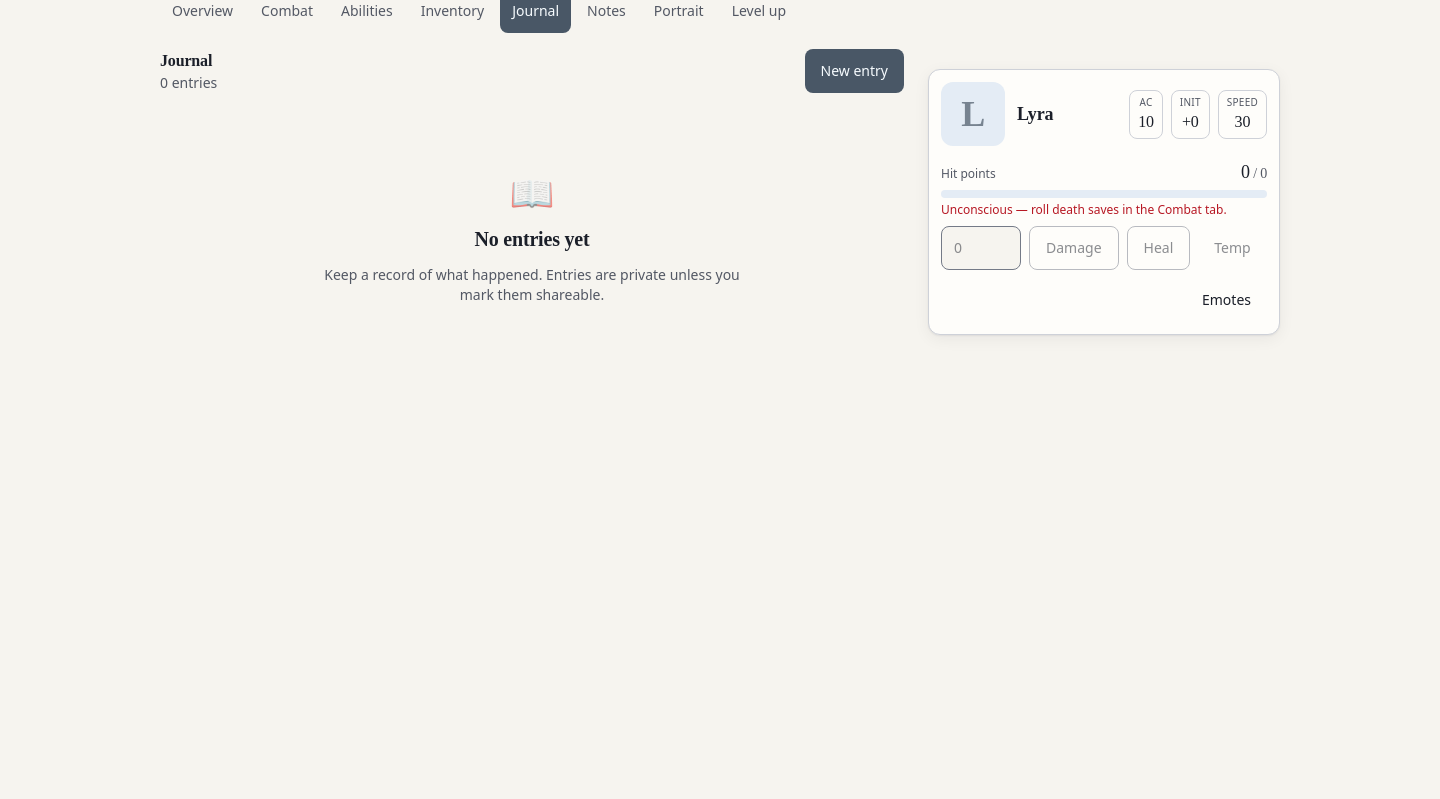
links and backlinks › says so plainly when there is nothing to link yet
The image size is (1440, 799).
Click the button "New entry" at (854, 71), box [805,49,904,93]
(page scrolled)
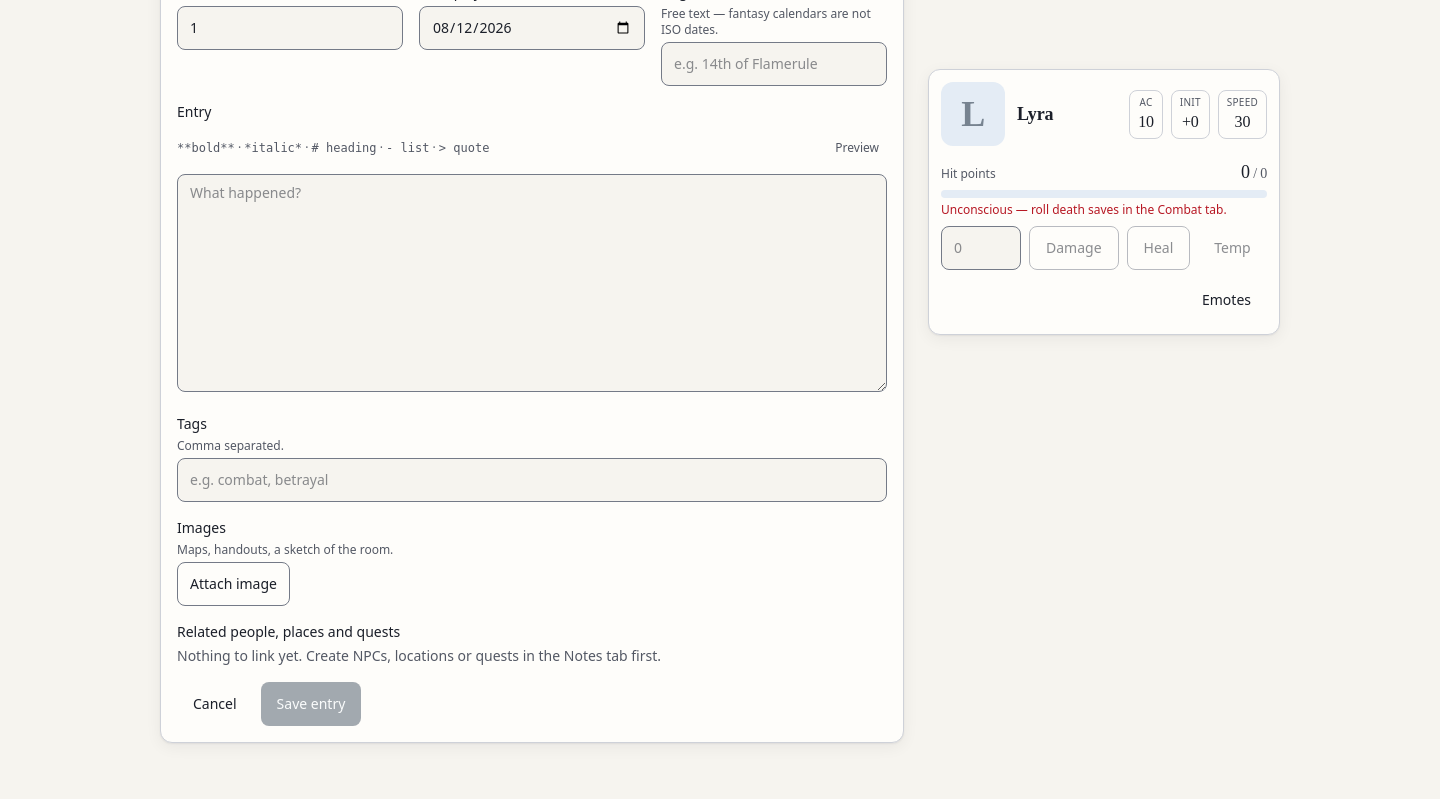
Now the text "Nothing to link yet" is shown, box [177,646,661,665]
